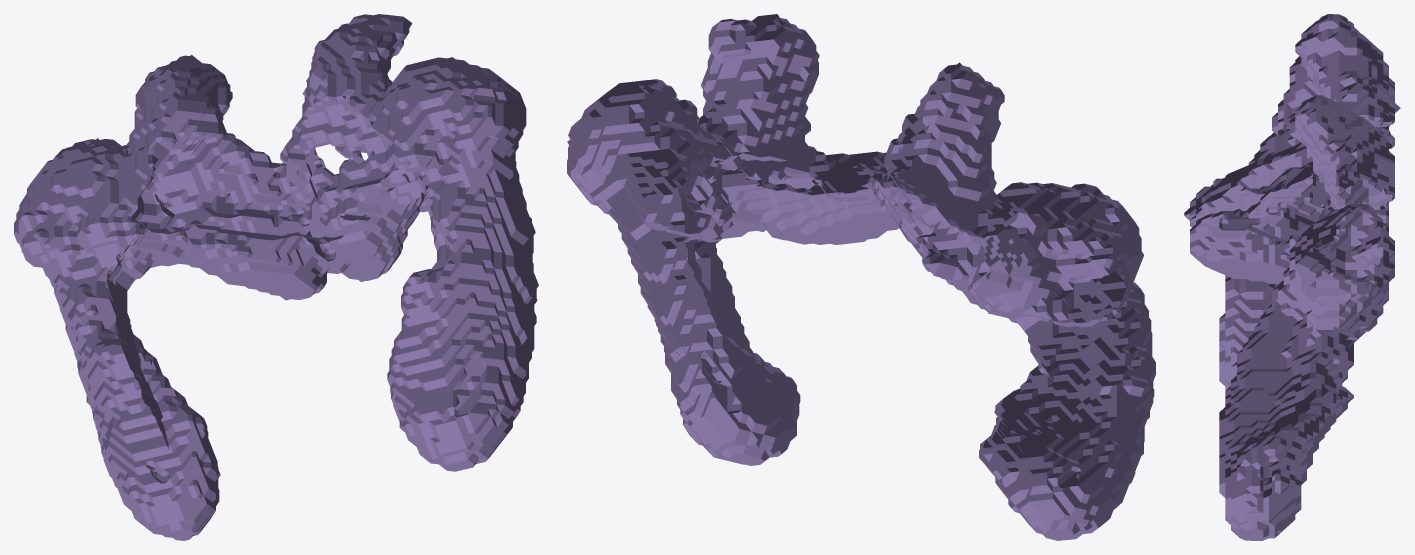
Rendered from region_0065_Hd__dorsal_zone_of_periventricular_hypothalamus_.glb.
The picture shows the model from 3 angles, left to right: view 1: azimuth 30°, elevation 25°; view 2: azimuth 150°, elevation 25°; view 3: azimuth 270°, elevation 25°; orthographic projection. The views are drawn at different scales.
Parts seen in each view (by area): view 1: world; view 2: world; view 3: world.
Part boxes in pixels (x1,y1,x2,y2): world: (14,14,538,540); world: (567,14,1155,540); world: (1184,14,1400,540).
Size of the model in its own units: 0.728 by 0.624 by 0.296.
